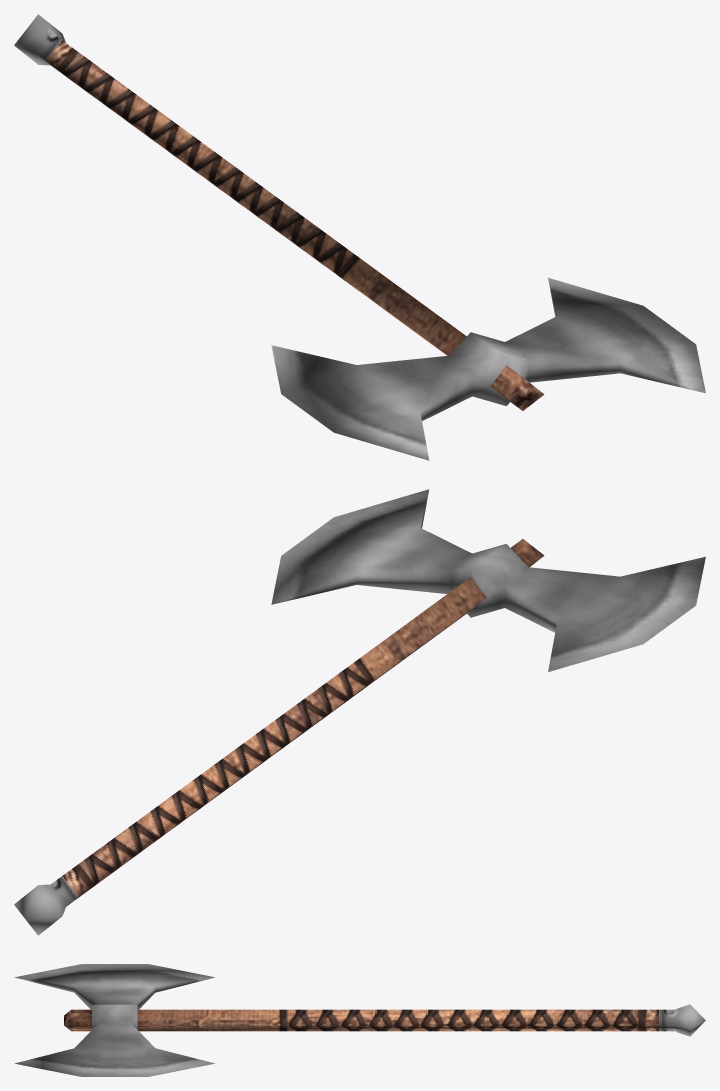
File: two_handed_axe_1.glb
The picture shows the model from 3 angles, top to bottom: view 1: azimuth 30°, elevation 25°; view 2: azimuth 150°, elevation 25°; view 3: azimuth 270°, elevation 25°; orthographic projection. The views are drawn at different scales.
Visible parts, largest first — view 1: two_handed_axe_1; view 2: two_handed_axe_1; view 3: two_handed_axe_1.
Part boxes in pixels (x1,y1,x2,y2): two_handed_axe_1: [14, 14, 705, 460]; two_handed_axe_1: [14, 489, 705, 935]; two_handed_axe_1: [14, 964, 705, 1076].
Bounding box in the file's own units: 1.03 × 0.1375 × 2.66.
1 material, 1 textured.
